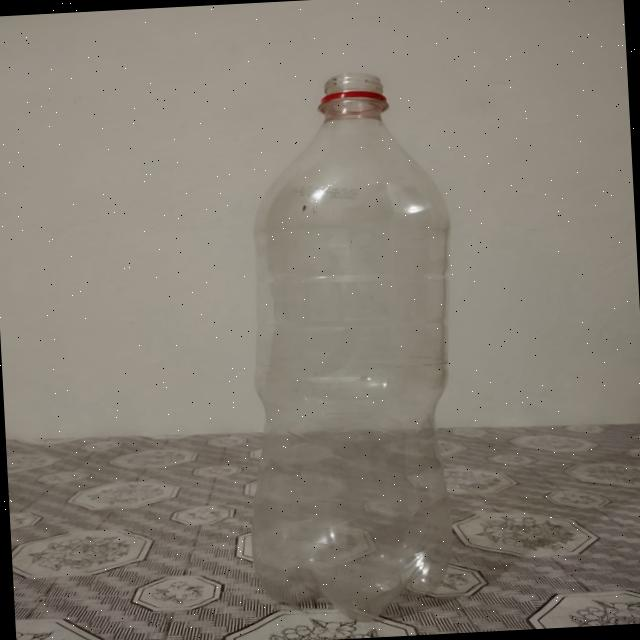bottle: (228, 66, 478, 630)
